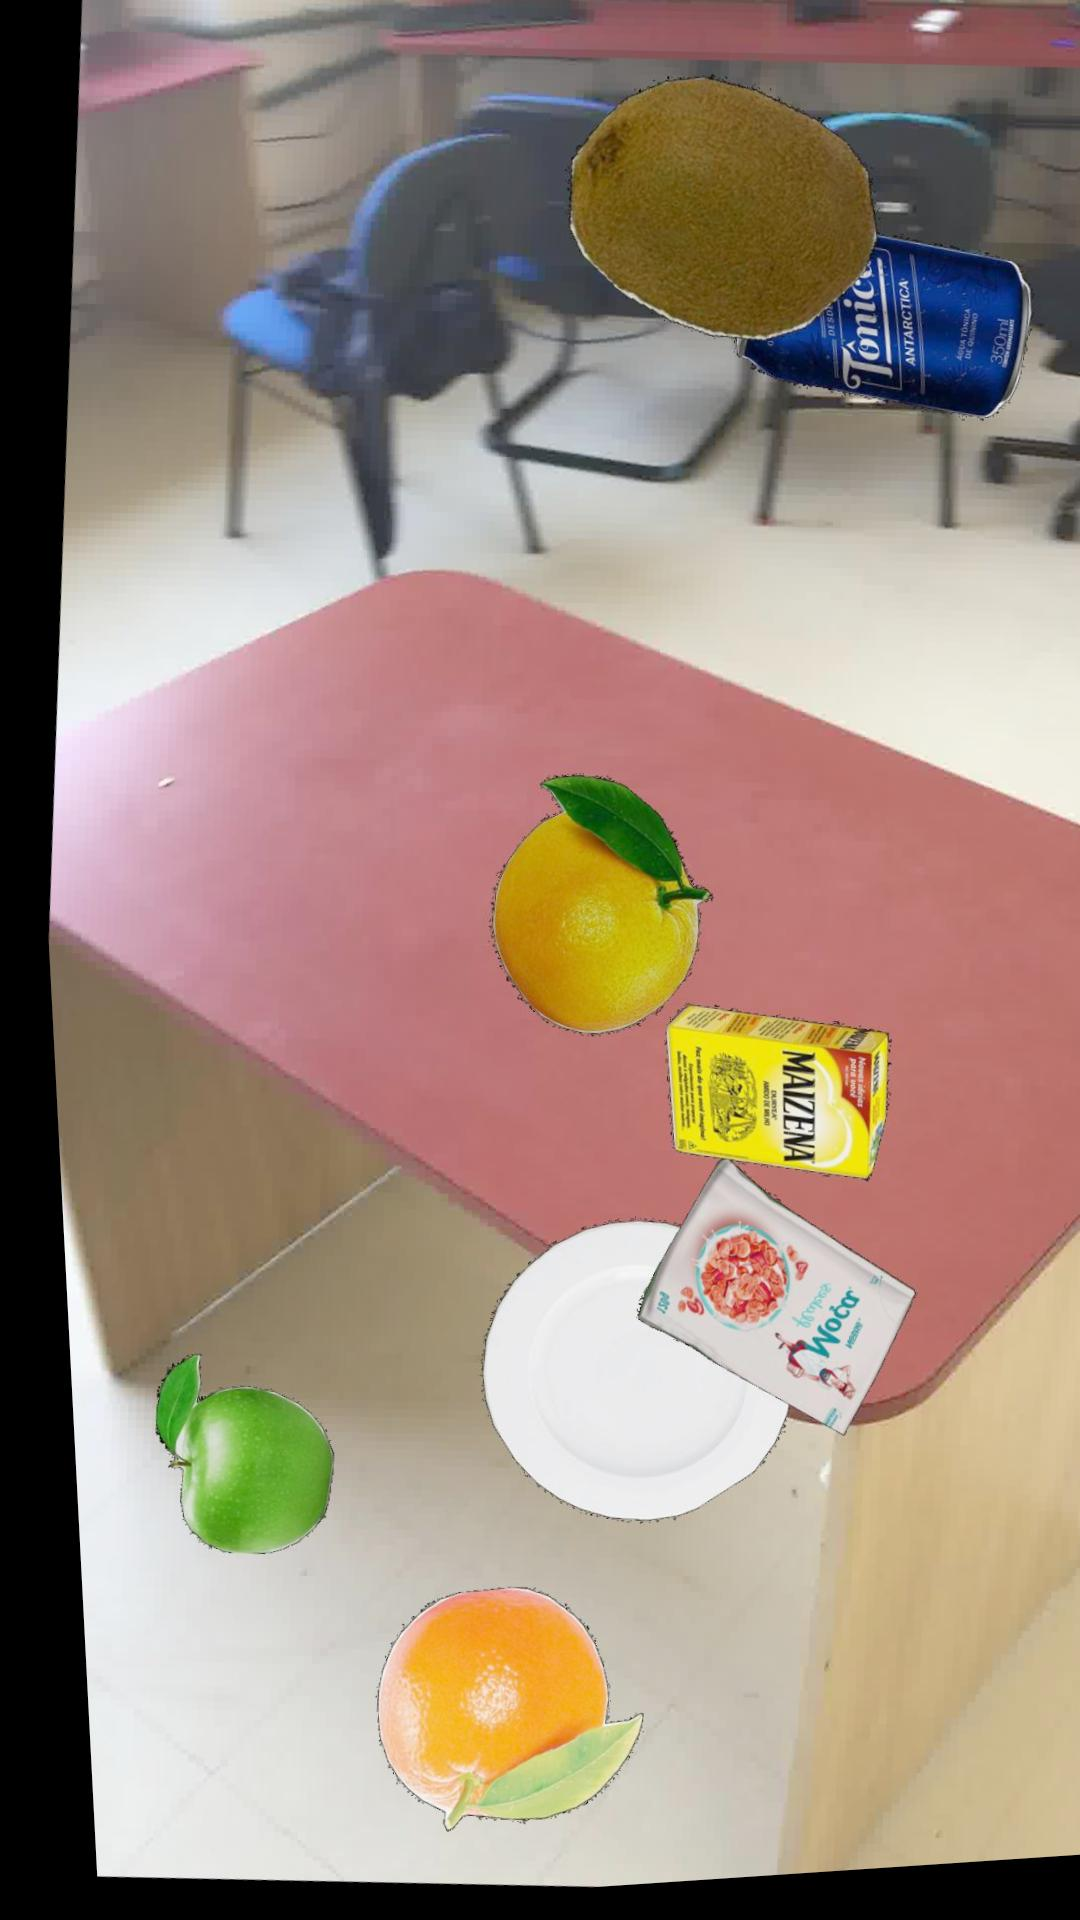corn flakes: (624, 1166, 902, 1445)
green apple: (141, 1354, 319, 1555)
kiwi: (567, 83, 876, 351)
orange: (359, 1592, 625, 1836), (481, 781, 703, 1043)
plate: (467, 1226, 774, 1527)
tonic: (733, 245, 1029, 430)
